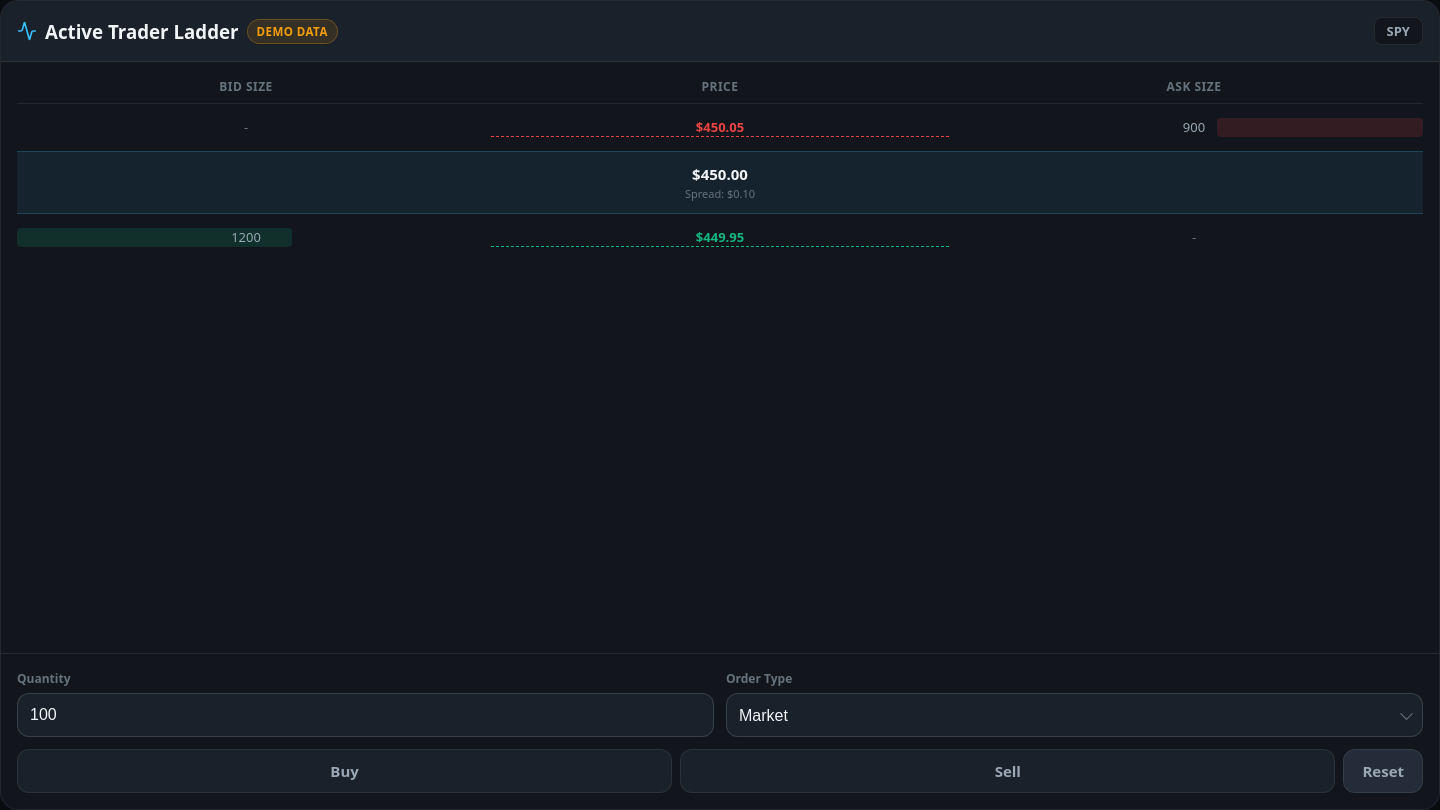
Test case: ActiveTraderLadder — trade panel › clicking a ladder ask price switches to LIMIT and populates the limit price field
Click the button with test id "ladder-ask-price-0".
click(720, 128)  # box x1=491 y1=118 x2=949 y2=137
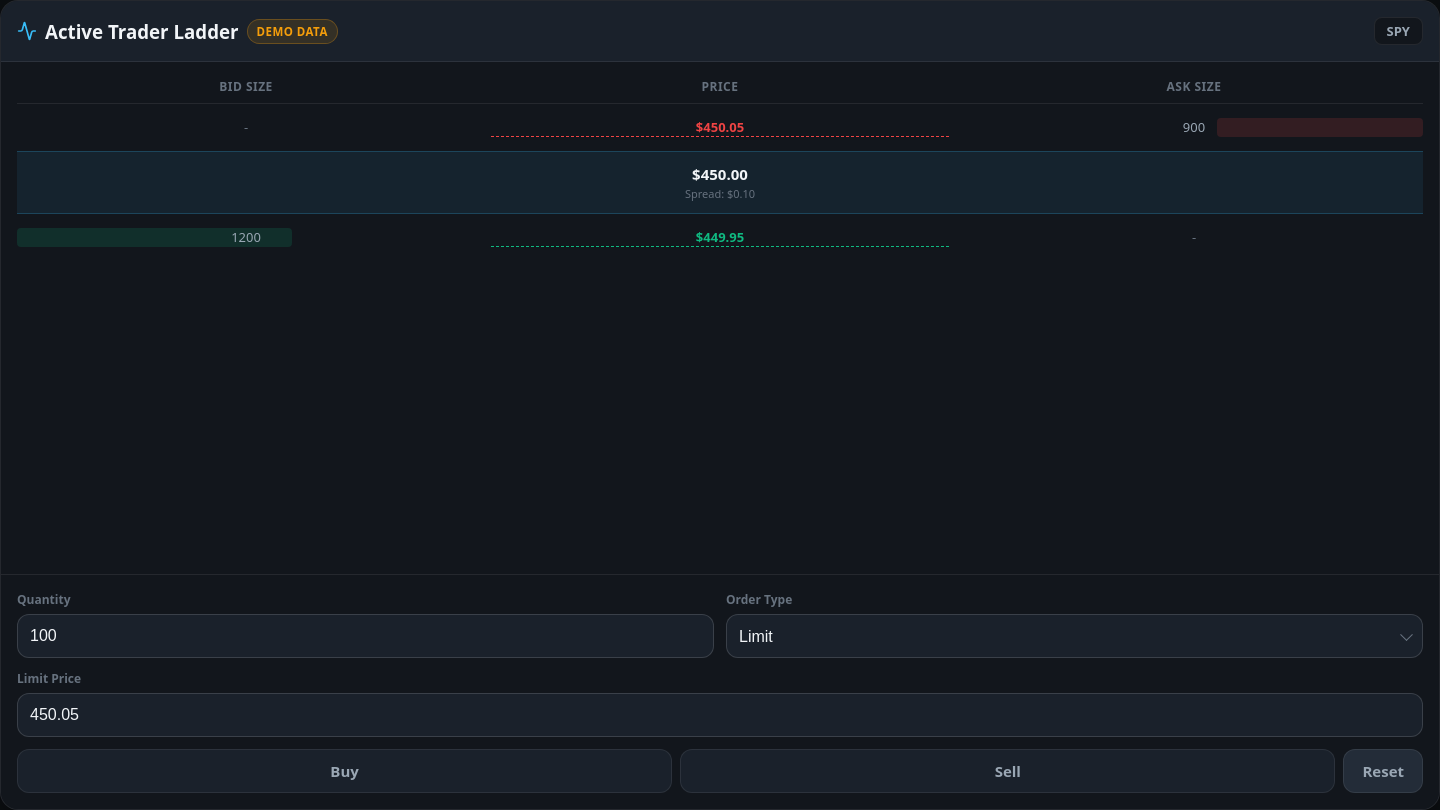
Expected: the dropdown labelled "Order Type" shows "Limit", x1=726 y1=614 x2=1423 y2=658
Expected: the number field labelled "Limit Price" holds "450.05", x1=17 y1=693 x2=1423 y2=737
